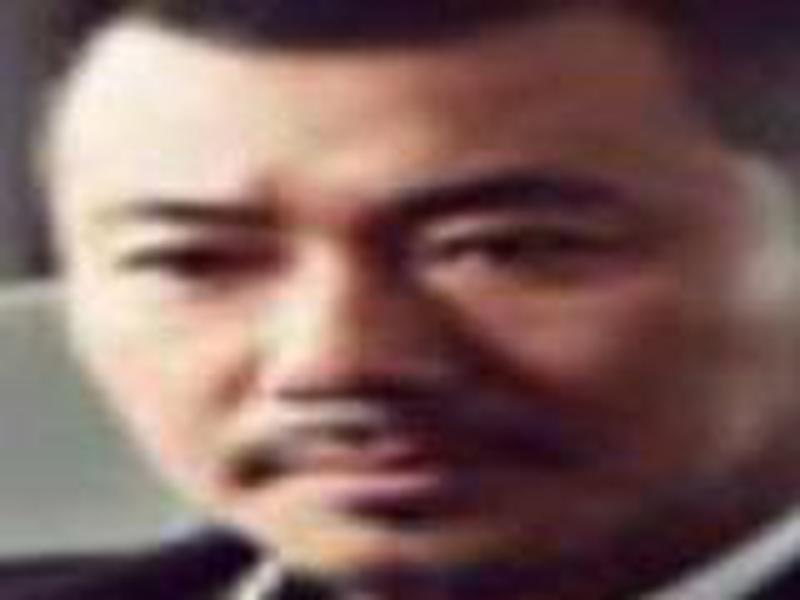without_mask: (38, 36, 772, 580)
